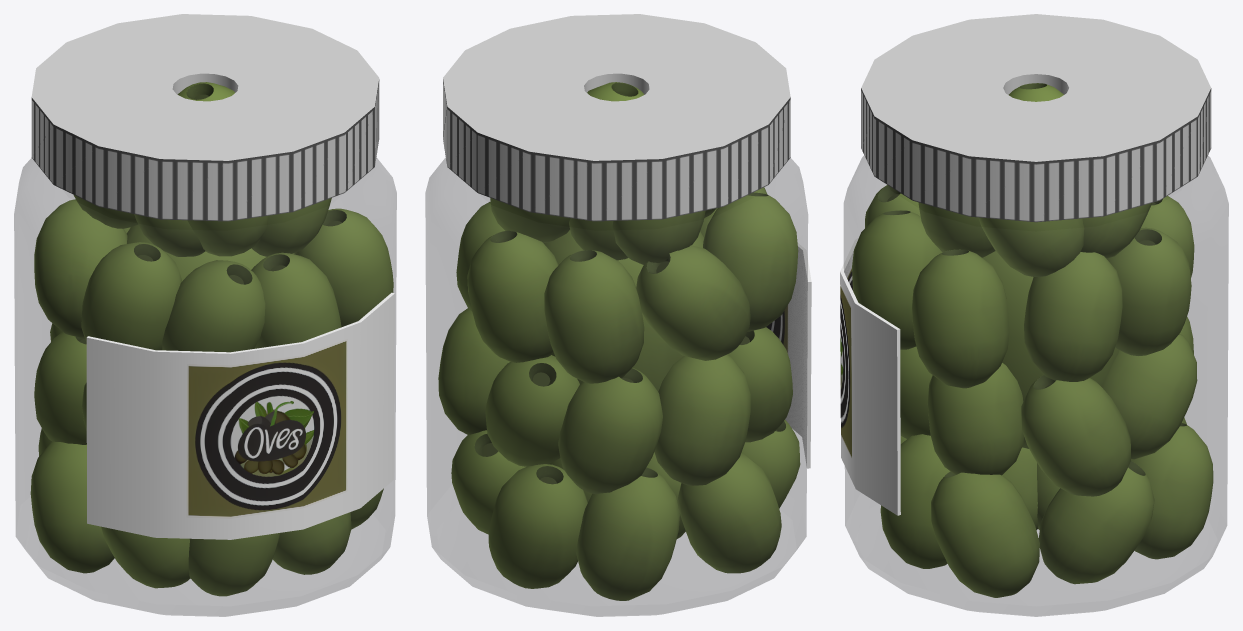
File: TarroAceitunas.fbx
3 views of the same model, side by side, from view 1: azimuth 30°, elevation 25°; view 2: azimuth 150°, elevation 25°; view 3: azimuth 270°, elevation 25° (orthographic).
Parts seen in each view (by area): view 1: TarroAceitunas; view 2: TarroAceitunas; view 3: TarroAceitunas.
Part boxes in pixels (x1,y1,x2,y2): TarroAceitunas: (14, 14, 396, 616); TarroAceitunas: (425, 14, 811, 616); TarroAceitunas: (840, 14, 1228, 616).
Bounding box in the file's own units: 130 × 174 × 132.
